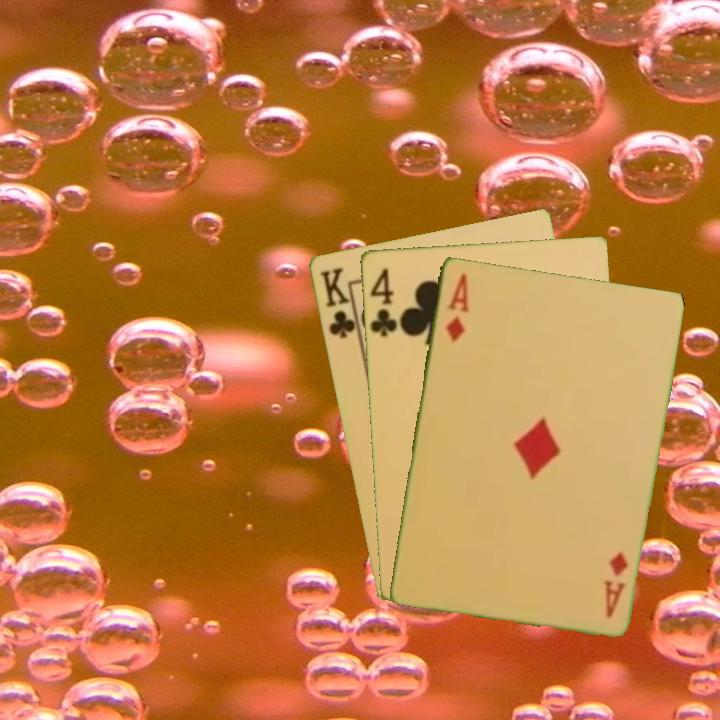4c: (366, 264, 400, 339)
Ad: (442, 269, 472, 345), (601, 547, 631, 620)
Kc: (315, 263, 362, 342)
